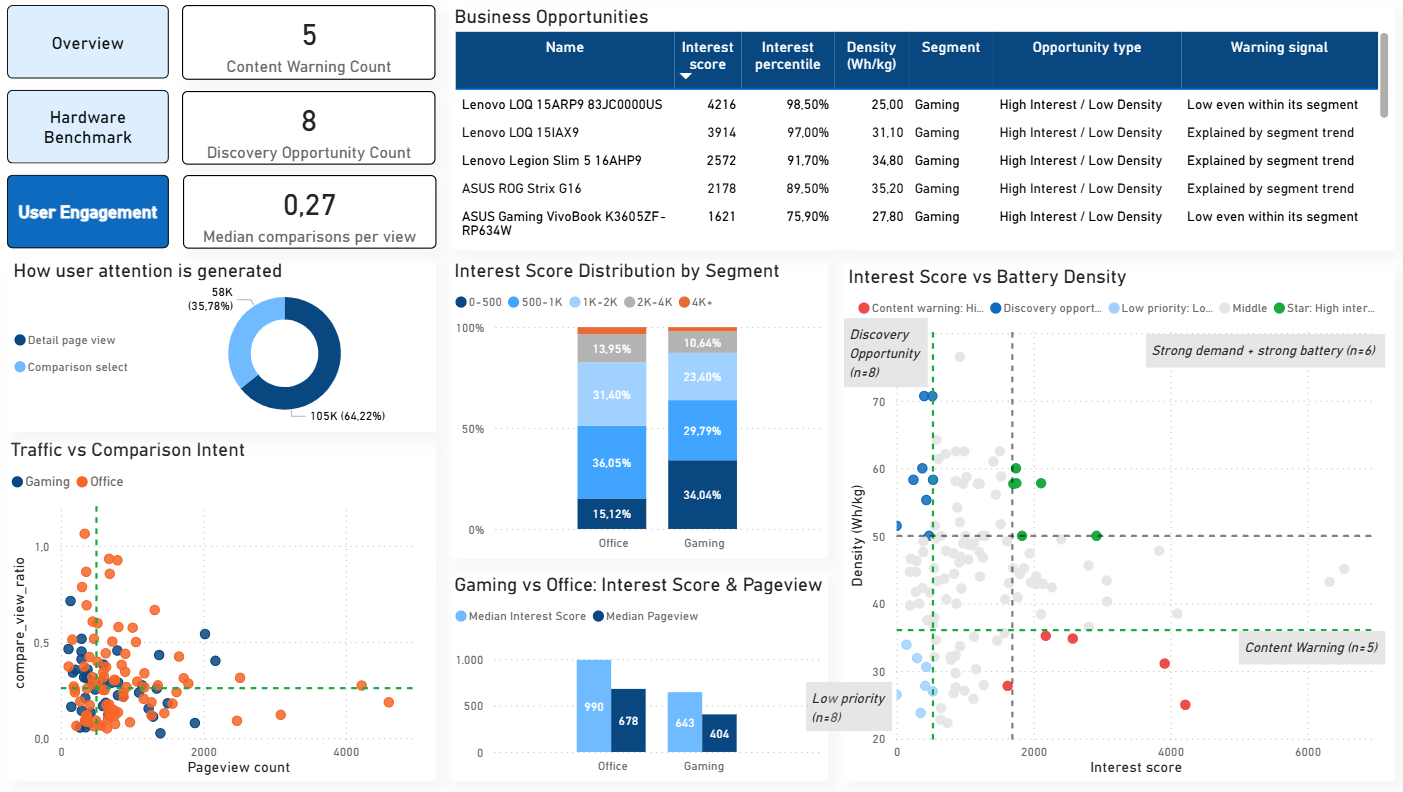

The page's visual inventory and layout, read from the dashboard file:
{"tool":"powerbi","page":{"name":"User Engagement","canvas":[1280,720],"ordinal":2},"visuals":[{"type":"card","fields":{"Values":["_Measures.Content Warning Count"]},"box":[176.4,9.9,227.5,67.2],"z":0},{"type":"card","fields":{"Values":["_Measures.Discovery Opportunity Count"]},"box":[176.4,86.9,227.5,66.3],"z":1000},{"type":"card","fields":{"Values":["_Measures.Median Comparison-to-View Ratio"]},"box":[177.3,162.1,226.6,66.3],"z":2000},{"type":"scatterChart","title":"Interest Score vs Battery Density","fields":{"X":["dashboard_laptop.interest_score"],"Y":["dashboard_laptop.density_wh_kg"],"Series":["dashboard_laptop.h9_quadrant"]},"box":[768.4,242.7,494.3,462.1],"z":3000},{"type":"textbox","box":[1040,304.5,213.6,30],"z":4000},{"type":"textbox","box":[1122.7,570,130.9,30],"z":5000},{"type":"textbox","box":[769.3,290.1,75.2,61.8],"z":6000},{"type":"textbox","box":[735.2,616.1,77,43.9],"z":7000},{"type":"clusteredColumnChart","title":"Gaming vs Office: Interest Score & Pageview","fields":{"Category":["dashboard_laptop.segment"],"Y":["_Measures.Median Interest Score","_Measures.Median Pageview"]},"box":[415.5,518.5,339.4,186.3],"z":8000},{"type":"hundredPercentStackedColumnChart","title":"Interest Score Distribution by Segment","fields":{"Category":["dashboard_laptop.segment"],"Y":["_Measures.Laptop Count"],"Series":["dashboard_laptop.interest_bucket"]},"box":[415.5,237.3,339.4,267.8],"z":9000},{"type":"scatterChart","title":"Traffic vs Comparison Intent","fields":{"X":["dashboard_laptop.pageview_count"],"Y":["dashboard_laptop.compare_view_ratio"],"Series":["dashboard_laptop.segment"]},"box":[17.9,397.6,386,307.2],"z":10000},{"type":"donutChart","title":"How user attention is generated ","fields":{"Category":["dashboard_interest_composition.action"],"Y":["Sum(dashboard_interest_composition.contribution)"]},"box":[20.6,237.3,383.3,154.9],"z":11000},{"type":"tableEx","title":"Business Opportunities","fields":{"Values":["dashboard_laptop.name","dashboard_laptop.interest_score","dashboard_laptop.interest_percentile","dashboard_laptop.density_wh_kg","dashboard_laptop.segment","dashboard_laptop.opportunity_type","dashboard_laptop.warning_signal"]},"box":[415.5,9.9,847.2,218.5],"z":12000},{"type":"pageNavigator","box":[20.1,10,145.6,220.9],"z":13000}]}

Visuals, with their boxes in screenshot pixels (x1, y1, x2, y2), scaled from the page's 1280x720 canvas onto the 1403x792 screenshot:
card - _Measures.Content Warning Count: (x1=193, y1=11, x2=443, y2=85)
card - _Measures.Discovery Opportunity Count: (x1=193, y1=96, x2=443, y2=169)
card - _Measures.Median Comparison-to-View Ratio: (x1=194, y1=178, x2=443, y2=251)
"Interest Score vs Battery Density" scatterChart: (x1=842, y1=267, x2=1384, y2=775)
textbox: (x1=1140, y1=335, x2=1374, y2=368)
textbox: (x1=1231, y1=627, x2=1374, y2=660)
textbox: (x1=843, y1=319, x2=926, y2=387)
textbox: (x1=806, y1=678, x2=890, y2=726)
"Gaming vs Office: Interest Score & Pageview" clusteredColumnChart: (x1=455, y1=570, x2=827, y2=775)
"Interest Score Distribution by Segment" hundredPercentStackedColumnChart: (x1=455, y1=261, x2=827, y2=556)
"Traffic vs Comparison Intent" scatterChart: (x1=20, y1=437, x2=443, y2=775)
"How user attention is generated " donutChart: (x1=23, y1=261, x2=443, y2=431)
"Business Opportunities" tableEx: (x1=455, y1=11, x2=1384, y2=251)
pageNavigator: (x1=22, y1=11, x2=182, y2=254)
